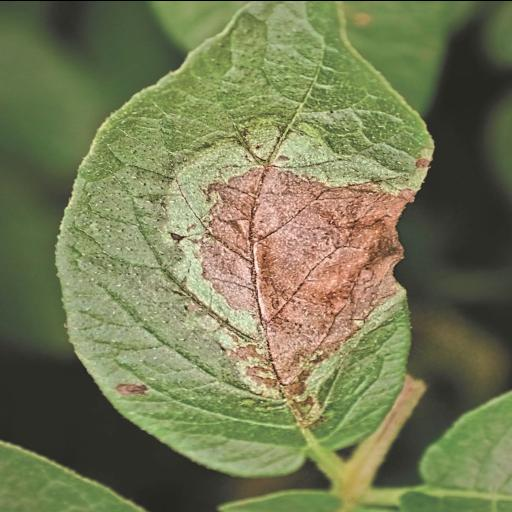Late Blight: (49, 0, 441, 482)
